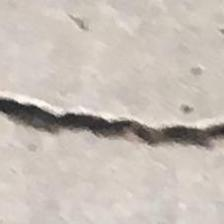Crack: (0, 80, 224, 157)
